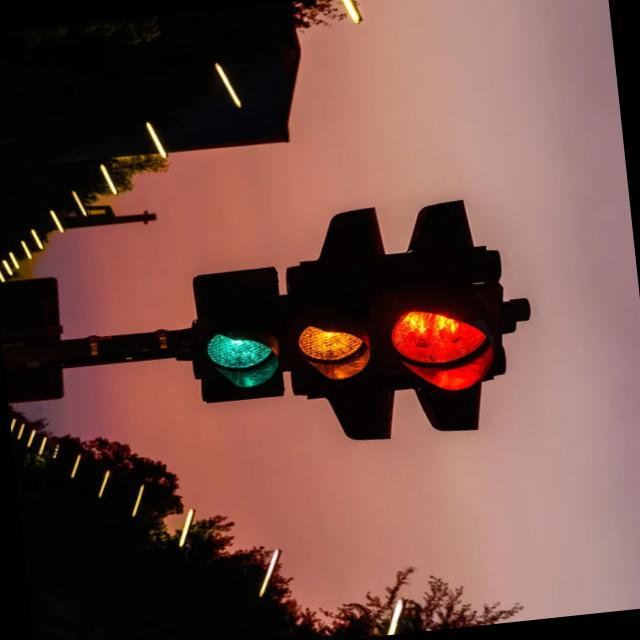green-lights: (191, 316, 278, 388)
red-lights: (390, 290, 506, 379)
yellow-lights: (288, 306, 377, 381)
